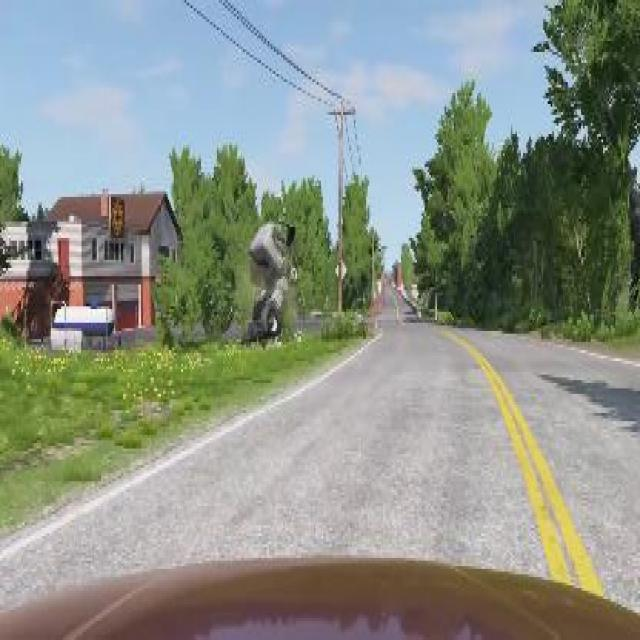accident: (243, 202, 300, 348)
